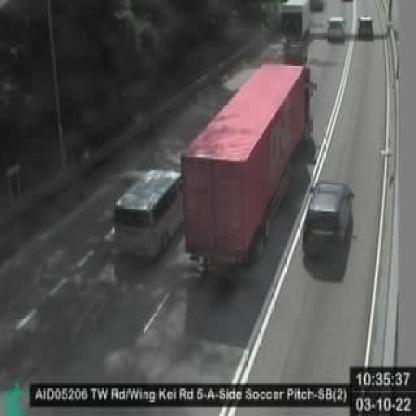Car: (114, 166, 186, 253), (303, 180, 351, 260), (356, 12, 372, 38), (326, 16, 344, 38)
Truck: (182, 62, 306, 279)
